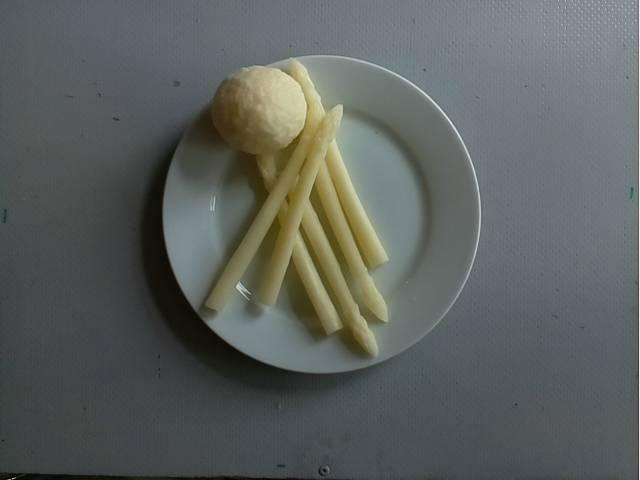Asparagus + dumpling: (199, 62, 399, 356)
